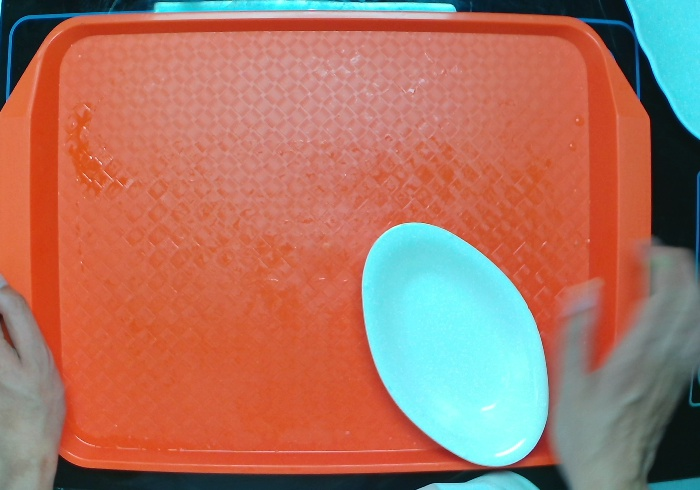RJxy-Bai_Se_Tuo_Yuan: (361, 218, 551, 470)
